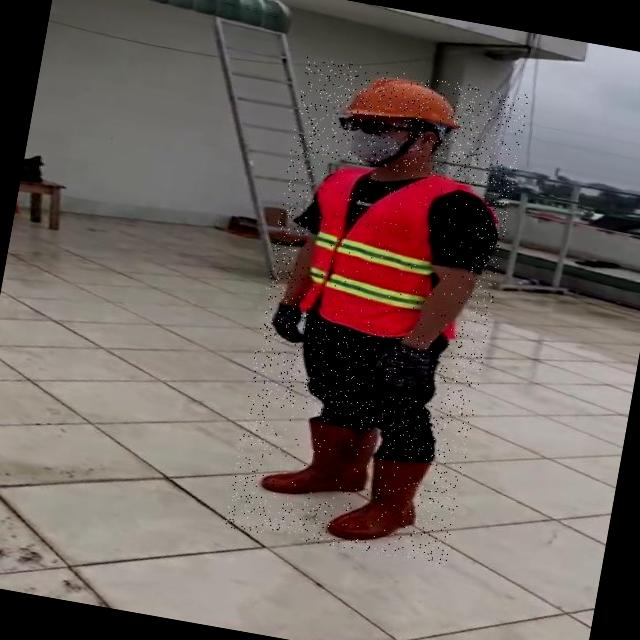boots: (258, 405, 387, 510), (326, 448, 434, 550)
helmet: (336, 64, 471, 140)
vest: (288, 157, 484, 345)
